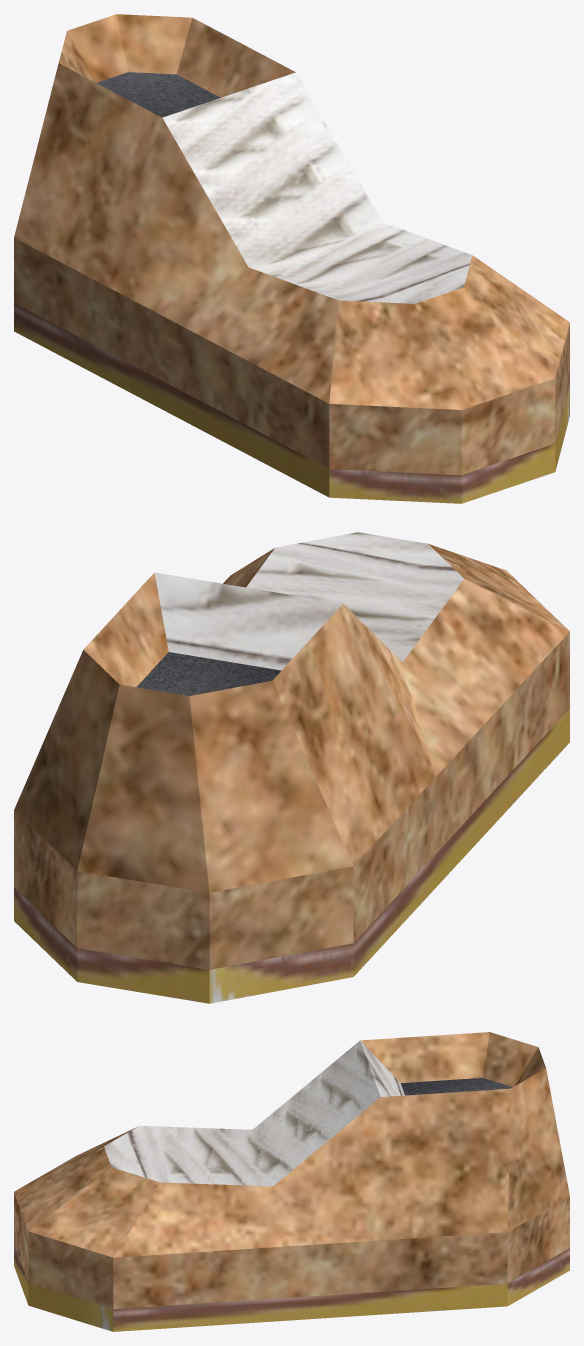
The model's file is shoe3.FBX.
3 renders of one model, top to bottom at view 1: azimuth 30°, elevation 25°; view 2: azimuth 150°, elevation 25°; view 3: azimuth 270°, elevation 25°, orthographic. The views are drawn at different scales.
Visible parts, largest first — view 1: Box008, Object016, Object018, Object017; view 2: Box008, Object016, Object018, Object017; view 3: Box008, Object016, Object018, Object017.
Boxes of the visible parts, x1,y1,x2,y2 form: Box008: (14, 14, 569, 474); Object016: (162, 72, 472, 303); Object018: (14, 303, 569, 503); Object017: (97, 72, 220, 117); Box008: (14, 544, 569, 969); Object016: (154, 532, 463, 670); Object018: (14, 709, 569, 1003); Object017: (136, 652, 281, 695); Box008: (14, 1032, 569, 1309); Object016: (104, 1040, 404, 1186); Object018: (14, 1244, 569, 1331); Object017: (400, 1078, 512, 1095).
Bounding box in the file's own units: 7.43 × 5.28 × 13.7.
Materials: 5 (5 with a texture image).
